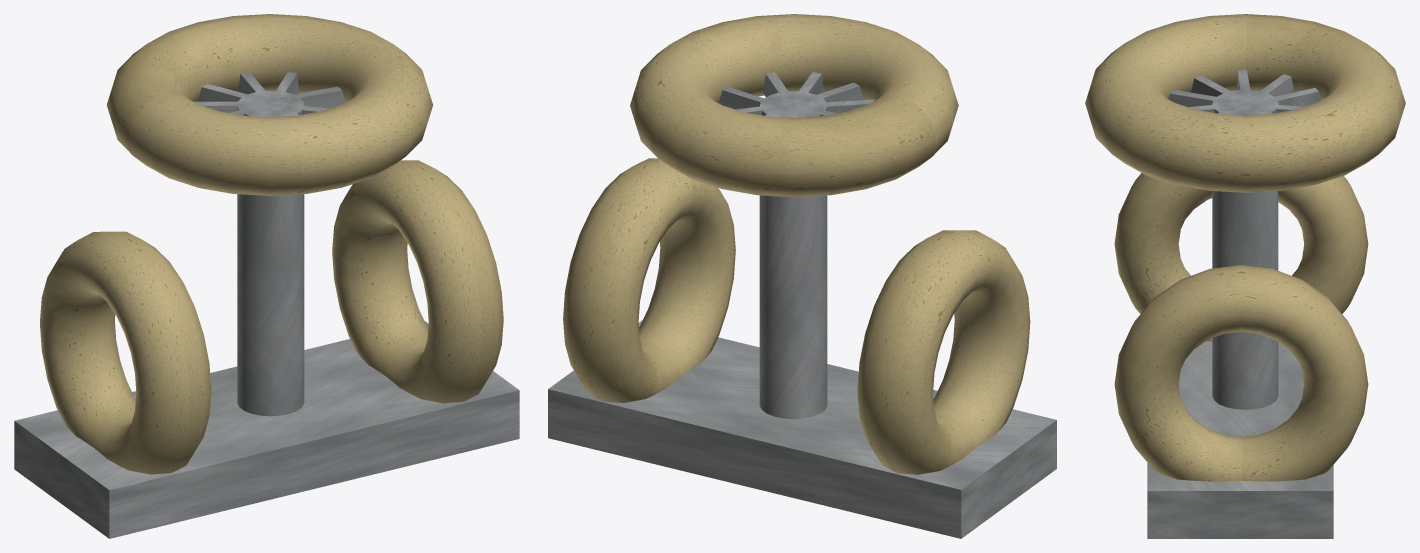
File: machina_na_stol.FBX
3 renders of one model, left to right at view 1: azimuth 30°, elevation 25°; view 2: azimuth 150°, elevation 25°; view 3: azimuth 270°, elevation 25°, orthographic. The views are drawn at different scales.
Parts seen in each view (by area): view 1: machina; view 2: machina; view 3: machina.
Boxes of the visible parts, x1,y1,x2,y2 form: machina: (14, 14, 519, 538); machina: (548, 14, 1056, 538); machina: (1085, 14, 1405, 538).
Bounding box in the file's own units: 2.33 × 2.07 × 1.61.
5 materials, 5 textured.
